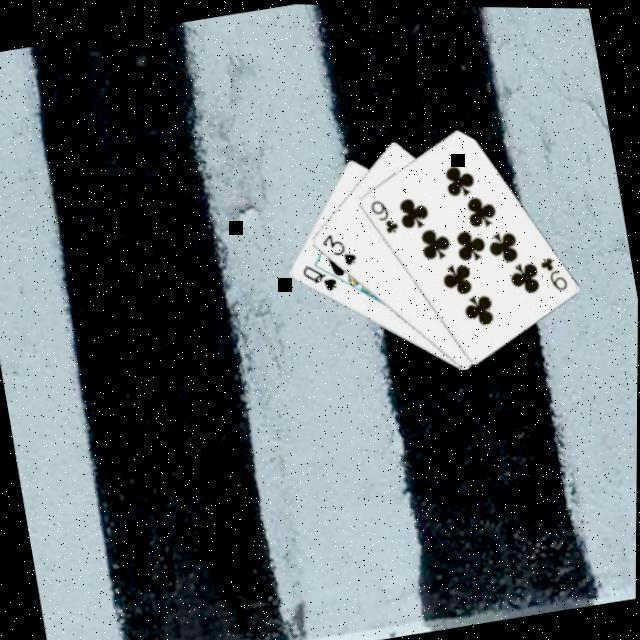3S: (319, 226, 363, 273)
9C: (368, 193, 405, 239), (537, 250, 574, 296)
QS: (299, 258, 342, 298)
